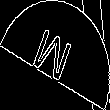M_SW: (32, 23, 78, 87)
